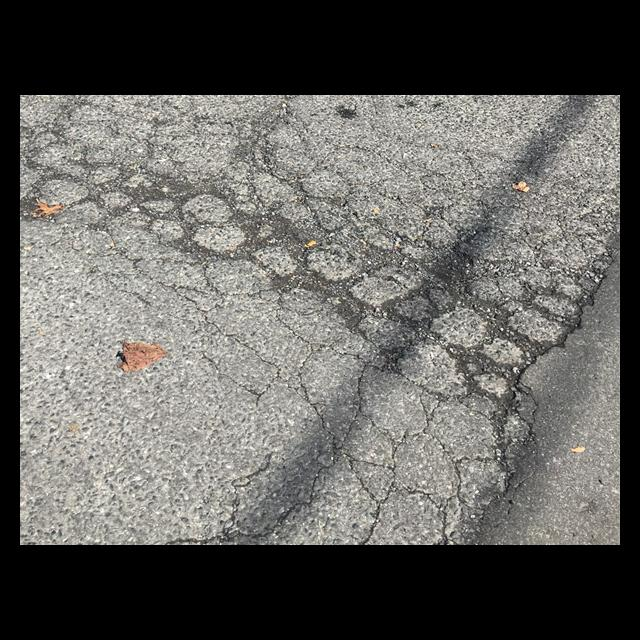retak_kulit_buaya: (29, 95, 584, 344), (185, 303, 537, 545)
